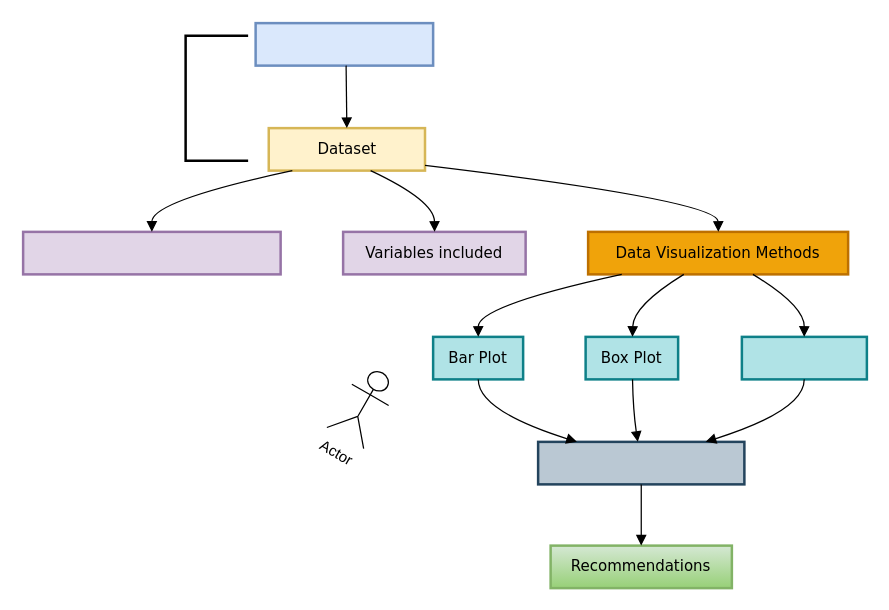
Image size: 889x610. Some labels were removed from this diagram. Each missing label, with the box of its shape:
Data Visualization Analysis: (254, 21, 434, 66)
Description of participants: (21, 230, 281, 275)
Result Interpretation: (536, 440, 745, 485)
Scatter Plot: (740, 335, 868, 380)
